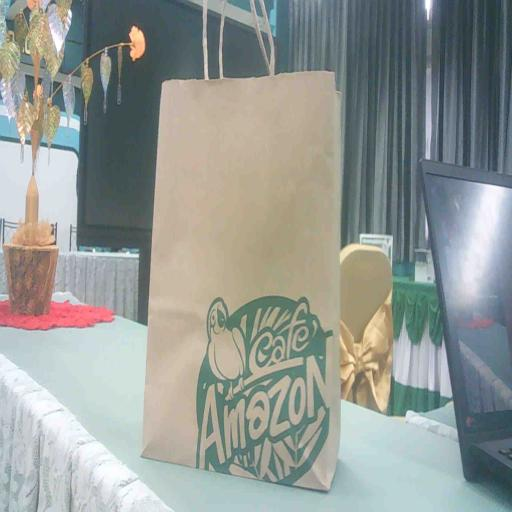bag: (139, 72, 350, 504)
